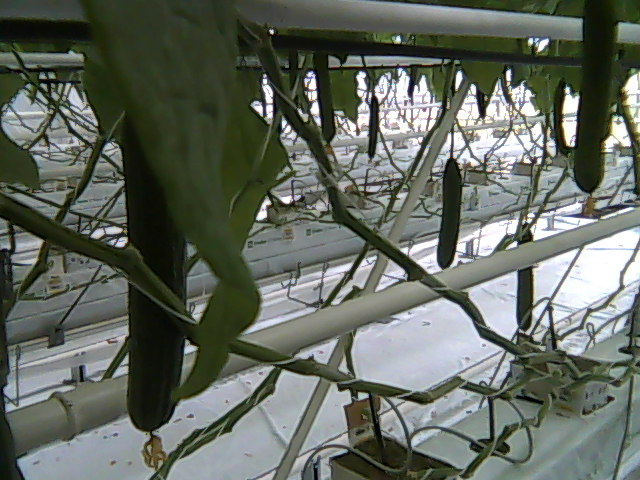concombre: (118, 111, 193, 475), (570, 1, 624, 217)
